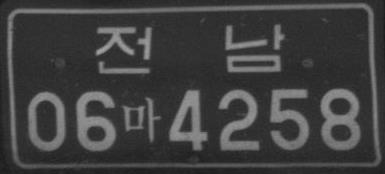0: (27, 90, 66, 152)
2: (216, 88, 259, 151)
4: (169, 90, 208, 151)
5: (268, 87, 311, 150)
6: (74, 89, 117, 151)
8: (320, 87, 362, 151)
마: (120, 96, 161, 143)
전남_D: (95, 22, 286, 72)
